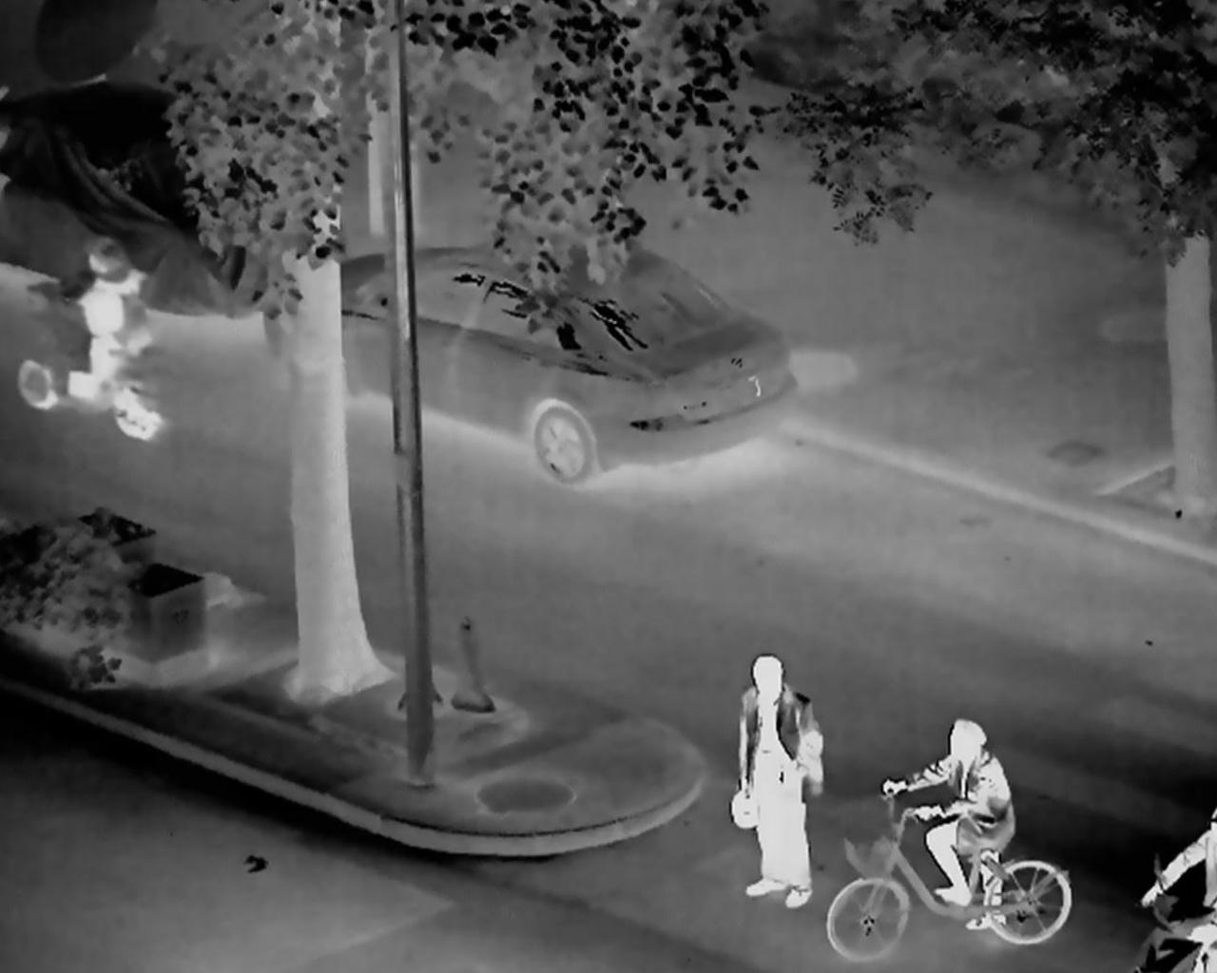person: (55, 237, 146, 408)
